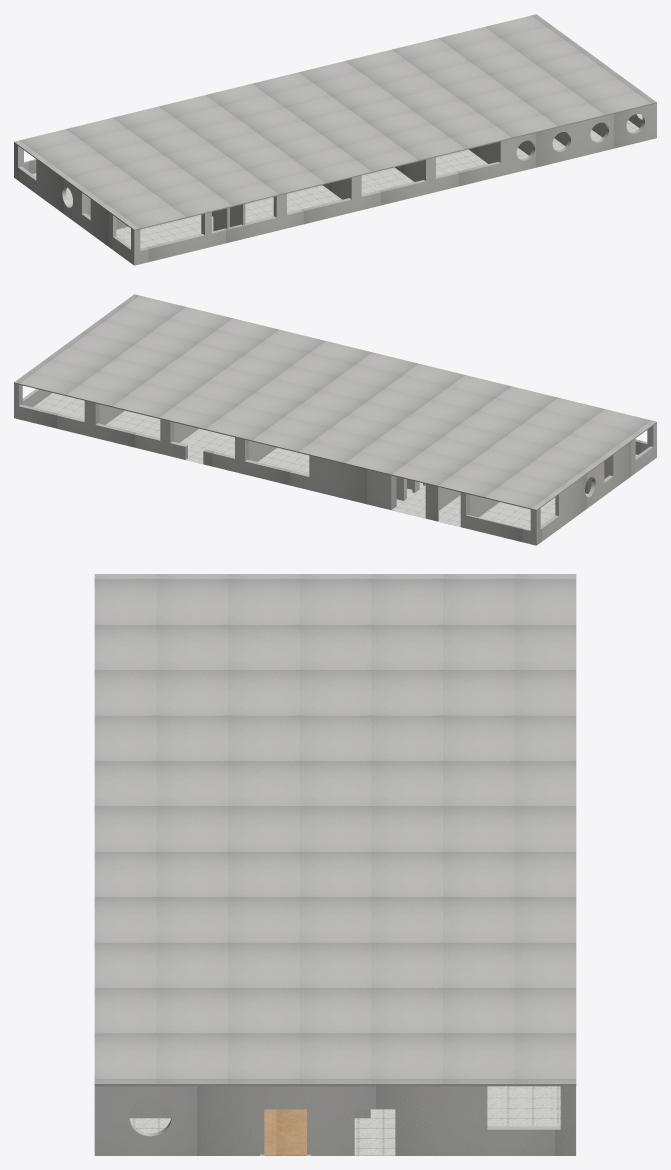
File: roof_UAMT.dae
The picture shows the model from 3 angles, top to bottom: view 1: azimuth 30°, elevation 25°; view 2: azimuth 150°, elevation 25°; view 3: azimuth 270°, elevation 25°; orthographic projection. The views are drawn at different scales.
Parts seen in each view (by area): view 1: roof_UAMT, walls_UAMT, floor_rooms_UAMT; view 2: roof_UAMT, walls_UAMT, floor_rooms_UAMT; view 3: roof_UAMT, walls_UAMT, floor_rooms_UAMT, floor_corridor_UAMT.
Part boxes in pixels (x1,y1,x2,y2): roof_UAMT: (14,14,656,230); walls_UAMT: (14,103,656,265); floor_rooms_UAMT: (32,120,654,264); roof_UAMT: (14,294,656,510); walls_UAMT: (14,383,656,545); floor_rooms_UAMT: (15,393,647,545); roof_UAMT: (94,574,576,1086); walls_UAMT: (94,1086,575,1155); floor_rooms_UAMT: (129,1086,576,1155); floor_corridor_UAMT: (264,1109,306,1155).
Size of the model in its own units: 50.55 by 20.17 by 3.32.
